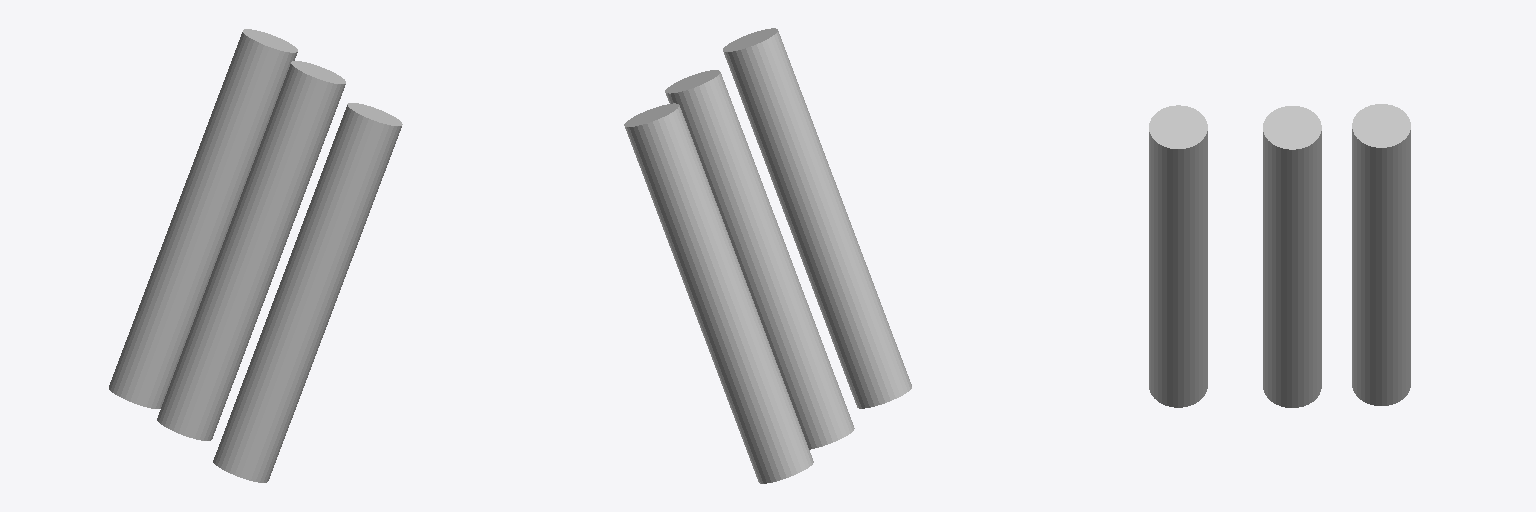
Rendered from boo_bars.obj.
The picture shows the model from 3 angles: view 1: azimuth 30°, elevation 25°; view 2: azimuth 150°, elevation 25°; view 3: azimuth 270°, elevation 25°; orthographic projection.
Visible parts, largest first — view 1: Cylinder.001, Cylinder, Cylinder.002; view 2: Cylinder.001, Cylinder.002, Cylinder; view 3: Cylinder, Cylinder.002, Cylinder.001.
Boxes of the visible parts, box(x1,y1,x2,y2) form: Cylinder.001: box(213, 103, 402, 482); Cylinder: box(157, 61, 345, 440); Cylinder.002: box(109, 29, 297, 408); Cylinder.001: box(723, 28, 911, 408); Cylinder.002: box(624, 103, 813, 483); Cylinder: box(665, 70, 854, 449); Cylinder: box(1263, 106, 1321, 407); Cylinder.002: box(1352, 104, 1410, 405); Cylinder.001: box(1149, 105, 1207, 407).
Size of the model in its own units: 0.3916 by 0.6986 by 0.4806.